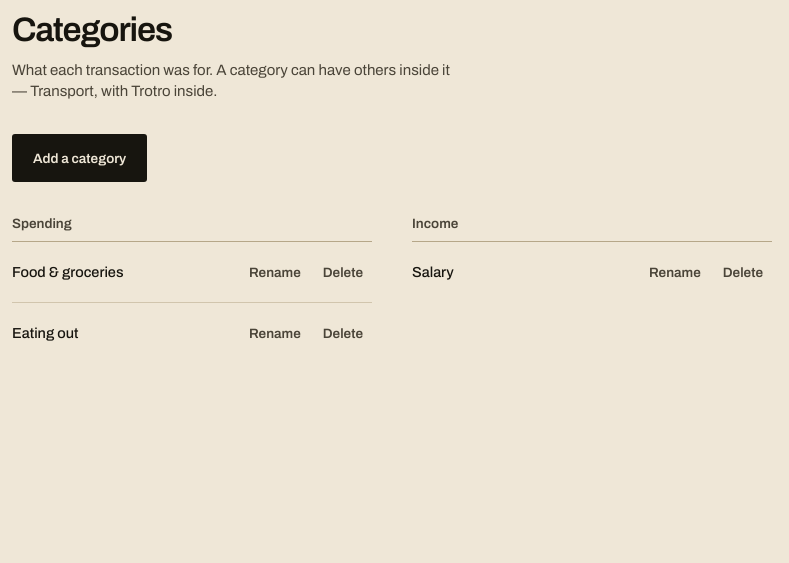
Test: CategoriesScreen › lists the categories first, with the add form a click away
Expected: the text "Eating out" is shown, [12, 323, 78, 344]
Click the button "Add a category".
click(80, 158)  # box [12, 134, 147, 182]
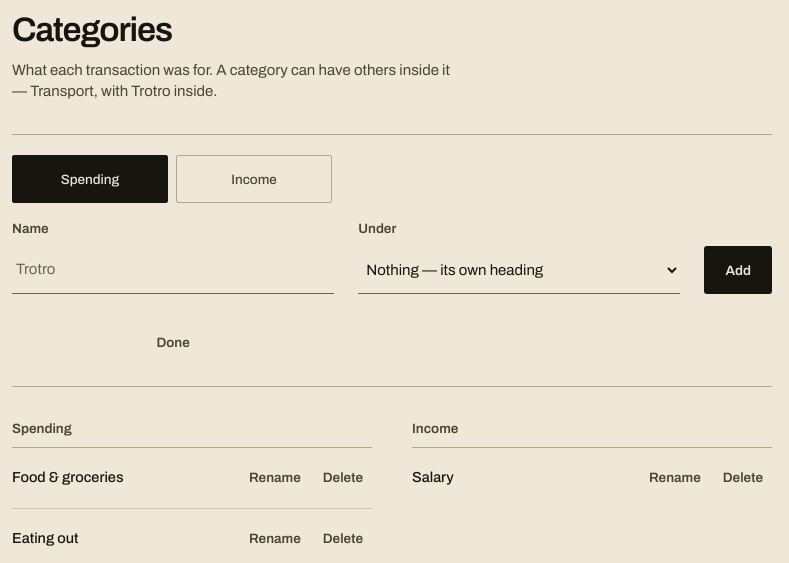
Now the form named "Add a category" is shown, box [12, 134, 772, 388]
